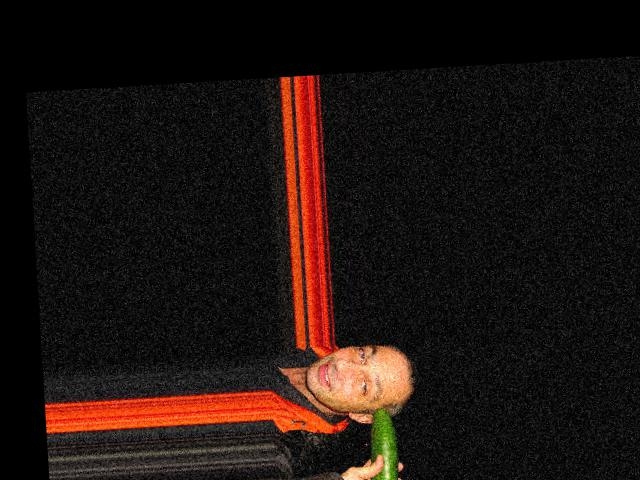cucumber: (368, 406, 400, 480)
